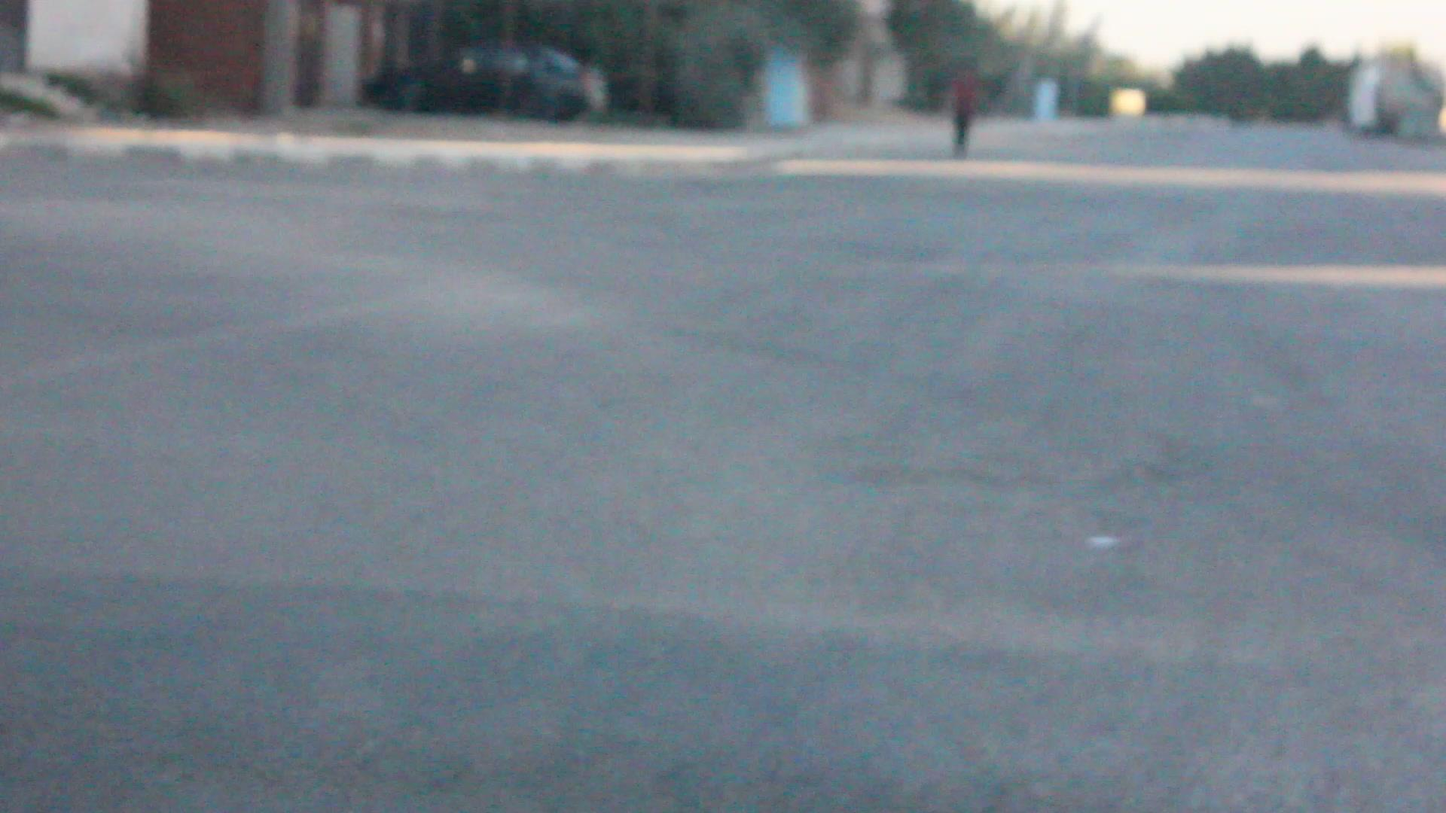Bump: (0, 558, 1445, 812)
